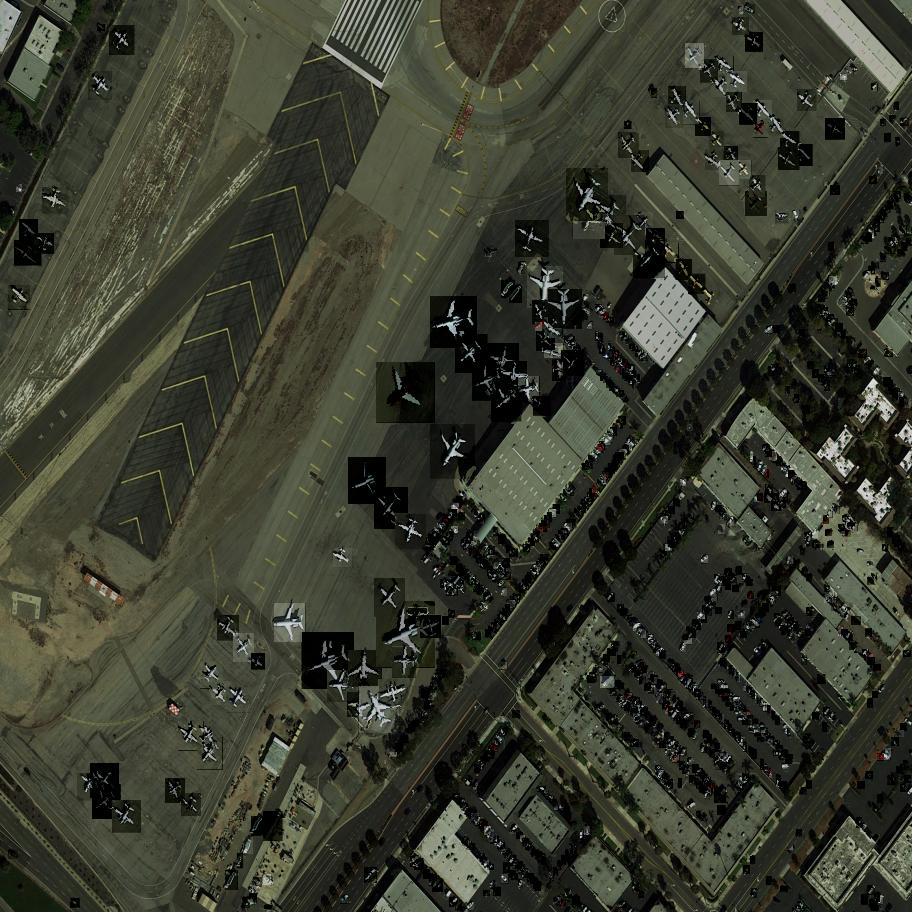large-vehicle: (263, 811, 285, 841), (501, 280, 517, 299), (251, 817, 266, 836), (225, 870, 239, 890), (509, 286, 525, 303), (365, 867, 379, 884), (714, 788, 729, 803), (600, 676, 615, 689), (244, 838, 254, 855), (432, 878, 444, 892), (452, 577, 464, 588), (449, 897, 460, 908), (263, 875, 274, 886), (508, 855, 519, 866), (410, 857, 422, 867), (830, 186, 842, 196), (518, 262, 527, 275), (764, 493, 775, 503), (745, 4, 757, 13), (253, 877, 263, 887), (771, 502, 782, 511), (671, 710, 680, 721), (673, 699, 682, 710), (717, 643, 726, 654), (238, 853, 244, 868), (535, 322, 545, 331), (677, 701, 685, 712), (659, 550, 668, 559), (687, 802, 697, 810), (450, 575, 460, 583), (715, 575, 723, 585), (466, 532, 474, 541), (252, 882, 260, 891), (97, 25, 106, 33), (733, 585, 741, 594), (728, 612, 736, 621), (716, 582, 722, 593), (880, 754, 891, 760), (870, 176, 878, 184), (444, 583, 453, 590), (725, 569, 732, 578), (714, 758, 721, 767), (670, 692, 677, 701), (456, 901, 462, 911), (702, 743, 708, 753), (501, 729, 508, 737), (652, 89, 658, 98), (569, 846, 572, 854), (858, 551, 864, 554), (867, 563, 871, 566)
plane: (374, 602, 437, 668), (375, 362, 437, 423), (301, 633, 356, 690), (425, 296, 481, 348), (427, 425, 479, 479), (564, 169, 613, 221), (358, 686, 401, 733), (347, 458, 389, 504), (371, 488, 413, 530), (527, 266, 566, 309), (611, 215, 651, 255), (570, 201, 610, 240), (511, 220, 553, 257), (452, 334, 491, 373), (592, 196, 630, 234), (371, 579, 408, 617), (631, 241, 668, 279), (391, 514, 430, 549), (472, 363, 507, 402), (547, 290, 582, 329), (489, 384, 524, 422), (89, 785, 125, 820), (349, 650, 381, 687), (274, 604, 305, 642), (195, 737, 229, 771), (88, 763, 121, 798), (110, 800, 144, 833), (486, 343, 519, 377), (328, 670, 357, 703), (175, 722, 207, 751), (377, 679, 411, 706), (108, 25, 138, 55), (86, 71, 114, 100), (224, 685, 253, 713), (40, 188, 71, 214), (74, 774, 103, 801), (13, 241, 43, 267), (199, 662, 227, 689), (393, 647, 416, 679), (215, 615, 243, 641), (230, 634, 256, 662), (502, 361, 528, 389), (347, 692, 374, 718), (559, 350, 586, 376), (599, 224, 627, 248), (7, 285, 32, 310), (744, 191, 768, 217), (617, 132, 641, 158), (717, 161, 741, 186), (776, 148, 802, 171), (180, 793, 205, 816), (710, 73, 733, 97), (209, 681, 232, 705), (420, 615, 444, 638), (17, 219, 40, 243), (519, 376, 540, 402), (680, 101, 702, 125), (796, 89, 820, 111), (823, 118, 847, 140), (165, 779, 187, 803), (667, 86, 688, 111), (684, 44, 705, 69), (530, 300, 551, 325), (793, 144, 816, 166), (752, 100, 774, 123), (629, 150, 652, 172), (726, 72, 750, 93), (633, 212, 654, 236), (664, 104, 685, 128), (32, 233, 56, 254), (738, 104, 760, 126), (713, 57, 736, 78), (767, 115, 788, 138), (542, 318, 566, 338), (659, 243, 681, 264), (535, 330, 557, 351), (704, 150, 727, 170), (779, 132, 802, 152), (699, 59, 719, 82), (198, 726, 218, 749), (331, 549, 355, 568), (687, 274, 708, 295), (645, 229, 667, 249), (748, 176, 768, 197), (726, 89, 744, 112), (744, 33, 765, 52), (532, 397, 553, 416), (731, 17, 751, 36), (708, 131, 727, 151), (694, 117, 714, 136), (675, 260, 693, 281), (752, 119, 771, 138), (552, 359, 567, 382), (735, 160, 753, 179), (723, 146, 739, 165), (544, 344, 564, 359), (251, 653, 266, 670), (409, 608, 427, 620), (775, 213, 790, 225)
small-vehicle: (429, 875, 439, 887), (415, 858, 425, 870), (871, 835, 881, 847), (618, 449, 629, 459), (716, 805, 727, 815), (867, 886, 877, 897), (816, 674, 826, 685), (851, 617, 862, 627), (8, 850, 20, 859), (557, 530, 567, 540), (607, 464, 617, 474), (480, 545, 490, 555), (519, 583, 529, 593), (498, 535, 508, 545), (446, 586, 456, 596), (510, 825, 520, 835), (771, 586, 781, 596), (751, 618, 761, 628), (757, 591, 767, 601), (858, 350, 868, 360), (754, 647, 764, 657), (564, 523, 573, 534), (628, 434, 639, 443), (451, 503, 460, 514), (442, 514, 451, 525), (340, 895, 351, 904), (242, 898, 251, 909), (70, 899, 81, 908), (504, 848, 513, 859), (765, 447, 774, 458), (828, 277, 839, 286), (883, 377, 892, 388), (767, 366, 776, 377), (656, 693, 665, 704), (686, 675, 693, 689), (573, 509, 582, 519), (566, 519, 576, 528), (626, 439, 636, 448), (596, 478, 605, 488), (441, 536, 450, 546), (488, 569, 497, 579), (509, 548, 519, 557), (474, 509, 483, 519), (434, 526, 444, 535), (432, 531, 442, 540), (655, 765, 664, 775), (629, 709, 639, 718), (644, 724, 653, 734), (249, 894, 258, 904), (423, 870, 432, 880), (405, 728, 414, 738), (421, 688, 430, 698), (488, 746, 497, 756), (485, 750, 495, 759), (449, 556, 459, 565), (472, 813, 481, 823), (478, 819, 487, 829), (484, 826, 493, 836), (486, 829, 495, 839), (785, 468, 794, 478), (797, 482, 807, 491), (765, 485, 774, 495), (766, 597, 775, 607), (755, 613, 764, 623), (697, 612, 706, 622), (889, 385, 898, 395), (847, 359, 857, 368), (512, 710, 521, 720), (880, 272, 890, 281), (839, 298, 848, 308), (845, 307, 855, 316), (665, 704, 674, 714), (886, 776, 895, 786), (895, 766, 904, 776), (646, 714, 655, 724), (878, 684, 887, 694), (607, 593, 616, 603), (629, 617, 638, 627), (633, 624, 643, 633), (688, 682, 697, 692), (603, 435, 614, 443), (874, 892, 882, 903), (564, 336, 575, 344), (760, 465, 768, 476), (898, 393, 906, 404), (596, 705, 607, 713), (803, 734, 812, 743), (549, 509, 558, 518), (602, 471, 611, 480), (538, 558, 547, 567), (506, 545, 515, 554), (618, 416, 627, 425), (572, 897, 581, 906), (800, 788, 809, 797), (695, 768, 704, 777), (595, 305, 604, 314), (466, 901, 475, 910), (432, 679, 441, 688), (436, 669, 445, 678), (395, 744, 404, 753), (501, 588, 510, 597), (473, 583, 482, 592), (501, 875, 510, 884), (493, 888, 502, 897), (491, 836, 500, 845), (522, 839, 531, 848), (537, 854, 546, 863), (463, 806, 472, 815), (475, 817, 484, 826), (811, 540, 820, 549), (838, 524, 847, 533), (781, 463, 790, 472), (791, 475, 800, 484), (779, 489, 788, 498), (759, 607, 768, 616), (899, 226, 908, 235), (883, 246, 892, 255), (824, 283, 833, 292), (863, 272, 872, 281), (826, 314, 835, 323), (835, 323, 844, 332), (716, 761, 725, 770), (687, 716, 696, 725), (705, 734, 714, 743), (890, 773, 899, 782), (621, 700, 630, 709), (640, 708, 649, 717), (823, 708, 832, 717), (868, 658, 877, 667), (638, 626, 647, 635), (653, 645, 662, 654), (656, 648, 665, 657), (581, 500, 591, 508), (576, 507, 586, 515), (567, 486, 575, 496), (560, 494, 568, 504), (553, 505, 561, 515), (531, 534, 539, 544), (522, 544, 530, 554), (601, 438, 611, 446), (592, 484, 600, 494), (615, 453, 625, 461), (604, 469, 614, 477), (510, 596, 518, 606), (506, 601, 516, 609), (502, 558, 510, 568), (426, 539, 436, 547), (448, 509, 458, 517), (585, 303, 593, 313), (580, 310, 588, 320), (7, 206, 15, 216), (422, 707, 430, 717), (426, 697, 434, 707), (513, 859, 521, 869), (535, 881, 543, 891), (503, 863, 511, 873), (462, 837, 470, 847), (489, 833, 497, 843), (728, 518, 736, 528), (718, 525, 726, 535), (756, 462, 764, 472), (689, 630, 697, 640), (888, 238, 896, 248), (845, 67, 855, 75), (849, 643, 859, 651), (801, 405, 811, 413), (884, 133, 892, 143), (892, 388, 900, 398), (901, 397, 909, 407), (498, 662, 508, 670), (884, 349, 894, 357), (823, 311, 831, 321), (692, 732, 700, 742), (607, 648, 617, 656), (594, 666, 604, 674), (590, 672, 598, 682), (639, 676, 647, 686), (665, 689, 673, 699), (895, 730, 905, 738), (891, 737, 899, 747), (609, 716, 619, 724), (664, 733, 672, 743), (846, 632, 854, 642), (866, 654, 874, 664), (781, 612, 791, 620), (787, 617, 795, 627), (797, 628, 805, 638), (660, 650, 668, 660), (563, 489, 570, 500), (862, 894, 869, 905), (769, 593, 776, 604), (866, 232, 873, 243), (554, 805, 565, 812), (719, 749, 726, 760), (536, 561, 544, 570), (541, 520, 550, 528), (539, 524, 548, 532), (533, 531, 542, 539), (552, 540, 561, 548), (549, 542, 557, 551), (584, 497, 593, 505), (587, 493, 595, 502), (610, 427, 618, 436), (607, 430, 616, 438), (599, 441, 607, 450), (593, 447, 601, 456), (585, 461, 594, 469), (624, 443, 633, 451), (613, 457, 622, 465), (533, 565, 541, 574), (531, 568, 539, 577), (504, 572, 512, 581), (445, 533, 453, 542), (463, 542, 471, 551), (469, 548, 477, 557), (471, 551, 480, 559), (477, 557, 486, 565), (480, 561, 489, 569), (498, 579, 506, 588), (502, 608, 511, 616), (527, 573, 536, 581), (457, 581, 465, 590), (458, 512, 467, 520), (477, 516, 486, 524), (428, 533, 436, 542), (497, 615, 505, 624), (649, 732, 658, 740), (672, 756, 681, 764), (679, 762, 687, 771), (681, 766, 690, 774), (689, 776, 697, 785), (788, 844, 796, 853), (630, 739, 639, 747), (633, 713, 641, 722), (687, 757, 695, 766), (692, 765, 700, 774), (624, 121, 633, 129), (639, 354, 648, 362), (577, 314, 585, 323), (493, 619, 502, 627), (389, 751, 398, 759), (408, 724, 417, 732), (433, 674, 442, 682), (465, 778, 474, 786), (400, 736, 409, 744), (481, 589, 489, 598), (456, 564, 464, 573), (459, 568, 468, 576), (462, 570, 470, 579), (477, 586, 485, 595), (484, 594, 493, 602), (442, 616, 450, 625), (507, 852, 515, 861), (519, 865, 527, 874), (527, 874, 535, 883), (509, 870, 517, 879), (483, 860, 491, 869), (498, 842, 506, 851), (495, 839, 503, 848), (529, 845, 537, 854), (458, 798, 466, 807), (481, 822, 489, 831), (812, 712, 821, 720), (815, 543, 824, 551), (773, 457, 782, 465), (892, 536, 901, 544), (661, 514, 670, 522), (730, 575, 738, 584), (762, 604, 770, 613), (748, 620, 756, 629), (684, 637, 693, 645), (701, 555, 709, 564), (826, 281, 835, 289), (901, 242, 909, 251), (896, 249, 905, 257), (870, 227, 878, 236), (867, 577, 875, 586), (889, 116, 898, 124), (901, 119, 910, 127), (873, 367, 881, 376), (820, 378, 829, 386), (771, 364, 779, 373), (765, 326, 774, 334), (686, 422, 694, 431), (868, 267, 877, 275), (818, 305, 826, 314), (829, 319, 838, 327), (633, 698, 641, 707), (662, 702, 671, 710), (677, 716, 685, 725), (720, 763, 729, 771), (602, 655, 611, 663), (587, 676, 596, 684), (644, 684, 653, 692), (688, 729, 696, 738), (653, 677, 662, 685), (660, 684, 668, 693), (722, 753, 730, 762), (885, 748, 893, 757), (876, 795, 884, 804), (865, 771, 874, 779), (666, 737, 675, 745), (669, 740, 677, 749), (801, 568, 810, 576), (824, 594, 832, 603), (829, 591, 837, 600), (841, 604, 850, 612), (776, 620, 785, 628), (806, 607, 814, 616), (807, 624, 816, 632), (679, 676, 688, 684), (623, 445, 630, 455), (611, 459, 618, 469), (600, 475, 607, 485), (493, 572, 500, 582), (744, 866, 751, 876), (751, 888, 758, 898), (624, 732, 631, 742), (861, 823, 868, 833), (469, 575, 476, 585), (478, 604, 485, 614), (517, 861, 524, 871), (796, 478, 803, 488), (783, 491, 790, 501), (769, 451, 776, 461), (680, 643, 687, 653), (893, 192, 903, 199), (821, 289, 831, 296), (904, 399, 911, 409), (876, 277, 883, 287), (849, 301, 856, 311), (668, 707, 675, 717), (735, 782, 745, 789), (680, 747, 687, 757), (822, 722, 829, 732), (801, 656, 808, 666), (783, 724, 790, 734), (888, 380, 894, 391), (528, 538, 536, 546), (582, 463, 590, 471), (597, 445, 605, 453), (591, 453, 599, 461), (587, 456, 595, 464), (494, 563, 502, 571), (451, 527, 459, 535), (521, 580, 529, 588), (471, 538, 479, 546), (659, 741, 667, 749), (797, 901, 805, 909), (627, 707, 635, 715), (638, 721, 646, 729), (619, 901, 627, 909), (676, 211, 684, 219), (636, 350, 644, 358), (572, 320, 580, 328), (16, 185, 24, 193), (392, 747, 400, 755), (421, 712, 429, 720), (485, 630, 493, 638), (481, 602, 489, 610), (448, 610, 456, 618), (530, 877, 538, 885), (512, 874, 520, 882), (468, 844, 476, 852), (479, 854, 487, 862), (525, 843, 533, 851), (531, 849, 539, 857), (535, 851, 543, 859), (452, 793, 460, 801), (871, 903, 879, 911), (812, 531, 820, 539), (827, 541, 835, 549), (841, 528, 849, 536), (842, 515, 850, 523), (851, 523, 859, 531), (777, 459, 785, 467), (895, 540, 903, 548), (741, 601, 749, 609), (660, 518, 668, 526), (665, 544, 673, 552), (692, 620, 700, 628), (705, 609, 713, 617), (705, 597, 713, 605), (710, 589, 718, 597), (873, 219, 881, 227), (872, 84, 880, 92), (807, 362, 815, 370), (773, 326, 781, 334), (820, 292, 828, 300), (821, 309, 829, 317), (857, 782, 865, 790), (722, 766, 730, 774), (631, 666, 639, 674), (725, 756, 733, 764), (684, 713, 692, 721), (742, 774, 750, 782), (902, 761, 910, 769), (651, 717, 659, 725), (720, 659, 728, 667), (794, 561, 802, 569), (824, 585, 832, 593), (617, 604, 625, 612), (649, 638, 657, 646), (651, 641, 659, 649), (697, 693, 705, 701), (535, 528, 544, 535), (540, 555, 549, 562), (499, 565, 506, 574), (467, 545, 474, 554), (513, 595, 522, 602), (457, 496, 464, 505), (454, 501, 461, 510), (447, 512, 454, 521), (441, 520, 448, 529), (685, 769, 692, 778), (659, 771, 666, 780), (662, 773, 669, 782), (701, 812, 708, 821), (633, 883, 640, 892), (796, 829, 803, 838), (869, 899, 876, 908), (554, 898, 563, 905), (577, 350, 586, 357), (565, 891, 574, 898), (621, 336, 630, 343), (599, 309, 606, 318), (582, 309, 591, 316), (574, 319, 583, 326), (499, 613, 508, 620), (427, 692, 434, 701), (430, 683, 437, 692), (491, 743, 500, 750), (483, 753, 490, 762), (473, 782, 480, 791), (487, 627, 496, 634), (466, 574, 473, 583), (441, 579, 448, 588), (452, 587, 459, 596), (501, 846, 508, 855), (465, 841, 472, 850), (483, 891, 492, 898), (470, 811, 477, 820), (806, 537, 813, 546), (711, 501, 718, 510), (823, 515, 830, 524), (828, 509, 835, 518), (777, 501, 786, 508), (739, 632, 748, 639), (738, 612, 747, 619), (668, 541, 677, 548), (670, 537, 679, 544), (676, 529, 685, 536), (701, 615, 708, 624), (707, 601, 716, 608), (736, 621, 743, 630), (631, 652, 638, 661), (753, 600, 760, 609), (763, 444, 770, 453), (827, 370, 836, 377), (763, 373, 770, 382), (868, 360, 875, 369), (818, 294, 825, 303), (790, 284, 797, 293), (728, 624, 735, 633), (627, 693, 634, 702), (649, 686, 656, 695), (647, 672, 656, 679), (695, 720, 702, 729), (900, 783, 907, 792), (872, 803, 879, 812), (609, 689, 618, 696), (675, 745, 682, 754), (829, 712, 836, 721), (863, 650, 870, 659), (865, 629, 872, 638), (845, 612, 852, 621), (806, 574, 813, 583), (780, 622, 787, 631), (789, 632, 796, 641), (786, 615, 793, 624), (648, 635, 655, 644), (676, 667, 683, 676), (548, 512, 554, 522), (487, 566, 493, 576), (668, 779, 674, 789), (584, 826, 590, 836), (475, 764, 481, 774), (561, 856, 567, 866), (467, 808, 473, 818), (857, 818, 863, 828), (868, 698, 874, 708), (715, 710, 721, 720), (775, 716, 781, 726), (775, 614, 781, 624), (642, 629, 648, 639), (580, 503, 587, 511), (526, 542, 533, 550), (561, 529, 569, 536), (616, 421, 623, 429), (613, 424, 621, 431), (483, 550, 490, 558), (448, 529, 455, 537), (489, 546, 496, 554), (526, 575, 533, 583), (437, 524, 445, 531), (696, 782, 704, 789), (699, 785, 706, 793), (697, 812, 704, 820), (704, 778, 711, 786), (750, 857, 757, 865), (773, 897, 781, 904), (780, 886, 788, 893), (767, 877, 774, 885), (635, 717, 643, 724), (560, 900, 567, 908), (616, 390, 624, 397), (613, 388, 621, 395), (603, 313, 610, 321), (583, 295, 590, 303), (497, 735, 504, 743), (494, 738, 501, 746), (516, 832, 524, 839), (490, 881, 497, 889), (520, 836, 527, 844), (461, 803, 468, 811), (805, 532, 813, 539), (825, 529, 833, 536), (883, 545, 890, 553), (715, 505, 723, 512), (788, 471, 795, 479), (771, 493, 779, 500), (757, 494, 765, 501), (673, 499, 681, 506), (666, 511, 673, 519), (716, 608, 724, 615), (758, 610, 765, 618), (745, 624, 752, 632), (687, 627, 694, 635), (682, 522, 689, 530), (702, 606, 709, 614), (890, 198, 897, 206), (887, 202, 894, 210), (881, 210, 889, 217), (873, 225, 881, 232), (880, 254, 887, 262), (785, 387, 792, 395), (799, 330, 806, 338), (901, 723, 908, 731), (880, 119, 887, 127), (852, 362, 859, 370), (825, 366, 832, 374), (812, 370, 819, 378), (865, 358, 872, 366), (851, 299, 859, 306), (680, 721, 688, 728), (611, 645, 619, 652), (600, 659, 608, 666), (618, 684, 626, 691), (625, 690, 632, 698), (636, 674, 644, 681), (651, 676, 659, 683), (780, 781, 788, 788), (739, 778, 747, 785), (904, 776, 912, 783), (877, 754, 885, 761), (654, 721, 661, 729), (624, 705, 632, 712), (638, 706, 646, 713), (674, 742, 681, 750), (872, 692, 880, 699), (842, 630, 849, 638), (874, 665, 882, 672), (903, 651, 911, 658), (787, 557, 794, 565), (839, 608, 847, 615), (781, 628, 789, 635), (620, 608, 627, 616), (670, 663, 678, 670), (673, 666, 681, 673), (695, 690, 702, 698), (624, 359, 629, 370), (825, 380, 830, 391), (776, 775, 781, 786), (461, 539, 467, 548), (476, 555, 482, 564), (505, 604, 511, 613), (494, 528, 500, 537), (671, 752, 677, 761), (705, 791, 711, 800), (664, 776, 670, 785), (568, 341, 577, 347), (491, 622, 497, 631), (538, 787, 547, 793), (846, 517, 852, 526), (888, 528, 894, 537), (772, 453, 778, 462), (906, 238, 912, 247), (891, 237, 900, 243), (880, 212, 886, 221), (896, 391, 902, 400), (855, 366, 861, 375), (829, 242, 835, 251), (848, 287, 854, 296), (846, 292, 852, 301), (841, 330, 847, 339), (594, 667, 600, 676), (715, 743, 721, 752), (740, 737, 746, 746), (839, 627, 845, 636), (831, 603, 837, 612), (792, 621, 798, 630), (668, 659, 674, 668), (533, 879, 538, 889), (519, 879, 524, 889), (565, 851, 570, 861), (800, 545, 805, 555), (736, 732, 741, 742), (744, 682, 749, 692), (715, 689, 725, 694), (544, 516, 551, 523), (555, 535, 562, 542), (706, 781, 713, 788), (702, 788, 709, 795), (587, 323, 594, 330), (424, 703, 431, 710), (754, 496, 761, 503), (723, 580, 730, 587), (712, 595, 719, 602), (877, 216, 884, 223), (861, 237, 868, 244), (841, 75, 848, 82), (630, 698, 637, 705), (617, 696, 624, 703), (758, 645, 765, 652), (589, 488, 595, 496), (487, 554, 493, 562), (700, 771, 706, 779), (600, 347, 606, 355), (603, 378, 611, 384), (606, 382, 614, 388), (480, 757, 486, 765), (478, 760, 484, 768), (412, 720, 418, 728), (472, 579, 478, 587), (481, 857, 487, 865), (487, 865, 495, 871), (553, 868, 559, 876), (669, 506, 675, 514), (845, 530, 851, 538), (871, 573, 877, 581), (835, 506, 841, 514), (729, 573, 735, 581), (736, 567, 742, 575), (740, 584, 746, 592), (746, 581, 754, 587), (749, 591, 755, 599), (742, 628, 750, 634), (685, 518, 691, 526), (893, 194, 899, 202), (886, 206, 892, 214), (793, 212, 799, 220), (878, 166, 884, 174), (871, 263, 879, 269), (847, 336, 853, 344), (850, 340, 856, 348), (612, 641, 620, 647), (629, 664, 635, 672), (619, 698, 625, 706), (607, 713, 613, 721), (726, 636, 732, 644), (855, 645, 861, 653), (785, 759, 793, 765), (734, 711, 742, 717), (761, 727, 769, 733), (879, 896, 884, 905), (630, 365, 635, 374), (523, 869, 528, 878), (557, 862, 562, 871), (743, 574, 748, 583), (697, 621, 702, 630), (895, 138, 900, 147), (704, 731, 709, 740), (748, 747, 753, 756), (752, 749, 757, 758), (733, 670, 738, 679), (693, 685, 698, 694), (773, 751, 782, 756), (750, 451, 754, 462), (426, 544, 433, 550), (620, 396, 627, 402), (848, 523, 855, 529), (722, 513, 728, 520), (680, 480, 686, 487), (899, 544, 905, 551), (725, 583, 731, 590), (675, 534, 681, 541), (688, 514, 694, 521), (868, 230, 874, 237), (843, 296, 849, 303), (710, 751, 716, 758), (637, 661, 644, 667), (639, 665, 646, 671), (635, 671, 641, 678), (637, 701, 643, 708), (794, 626, 800, 633), (628, 616, 634, 623), (679, 672, 685, 679), (723, 697, 730, 703), (750, 728, 757, 734), (666, 748, 671, 756), (703, 774, 708, 782), (807, 781, 812, 789), (600, 376, 608, 381), (609, 386, 617, 391), (615, 350, 620, 358), (739, 7, 744, 15), (473, 632, 478, 640), (542, 857, 547, 865), (833, 503, 838, 511), (895, 103, 900, 111), (758, 724, 766, 729), (748, 687, 753, 695), (833, 599, 838, 607), (757, 737, 765, 742), (611, 357, 615, 366), (852, 66, 858, 72), (642, 668, 648, 674), (769, 769, 773, 778), (725, 720, 729, 729), (720, 714, 724, 723), (725, 661, 729, 670), (736, 673, 740, 682), (720, 508, 725, 515), (721, 576, 726, 583), (640, 891, 645, 898), (658, 681, 663, 688), (788, 630, 793, 637), (752, 720, 759, 725), (726, 702, 733, 707), (734, 702, 741, 707), (782, 750, 789, 755), (764, 733, 771, 738), (773, 742, 780, 747), (761, 759, 764, 770), (595, 332, 599, 340), (617, 656, 621, 664), (752, 690, 756, 698), (737, 717, 745, 721), (623, 399, 629, 404), (629, 344, 635, 349), (710, 604, 716, 609), (805, 630, 810, 636), (572, 344, 579, 348), (599, 334, 603, 341), (620, 357, 624, 364), (618, 354, 622, 361), (612, 348, 616, 355), (684, 634, 688, 641), (819, 374, 823, 381), (779, 756, 786, 760), (786, 756, 793, 760), (711, 685, 718, 689), (742, 721, 749, 725), (766, 738, 773, 742), (711, 783, 714, 792), (729, 724, 732, 733), (709, 701, 712, 710), (772, 711, 775, 720), (693, 779, 697, 785), (628, 365, 631, 373), (629, 376, 633, 382), (632, 380, 635, 388), (607, 318, 613, 322), (608, 343, 611, 351), (546, 797, 554, 800), (461, 585, 465, 591), (706, 516, 709, 524), (712, 707, 715, 715), (764, 765, 767, 773), (720, 685, 726, 689), (718, 694, 726, 697), (730, 707, 738, 710), (747, 726, 755, 729), (614, 361, 617, 368), (625, 373, 628, 380), (550, 871, 553, 878), (795, 395, 798, 402), (732, 730, 735, 737), (739, 707, 746, 710), (728, 694, 735, 697), (501, 569, 505, 574), (679, 778, 681, 788), (575, 348, 580, 352), (754, 457, 756, 467), (905, 195, 909, 200), (616, 681, 620, 686), (621, 367, 624, 373), (632, 348, 638, 351), (744, 743, 746, 752), (763, 703, 765, 712), (788, 729, 791, 735), (704, 698, 706, 707), (782, 765, 788, 768), (744, 712, 750, 715), (776, 746, 782, 749), (581, 831, 583, 839), (264, 906, 272, 908), (730, 665, 732, 673), (761, 698, 763, 706), (597, 371, 602, 374), (747, 716, 752, 719), (638, 375, 640, 382), (617, 365, 619, 372), (541, 792, 548, 794), (766, 470, 768, 477), (478, 633, 480, 639), (871, 288, 877, 290), (734, 698, 740, 700), (717, 681, 723, 683), (620, 333, 625, 335), (724, 691, 729, 693), (756, 694, 757, 703), (623, 370, 624, 378), (768, 706, 769, 714), (754, 734, 761, 735), (635, 372, 636, 378)
